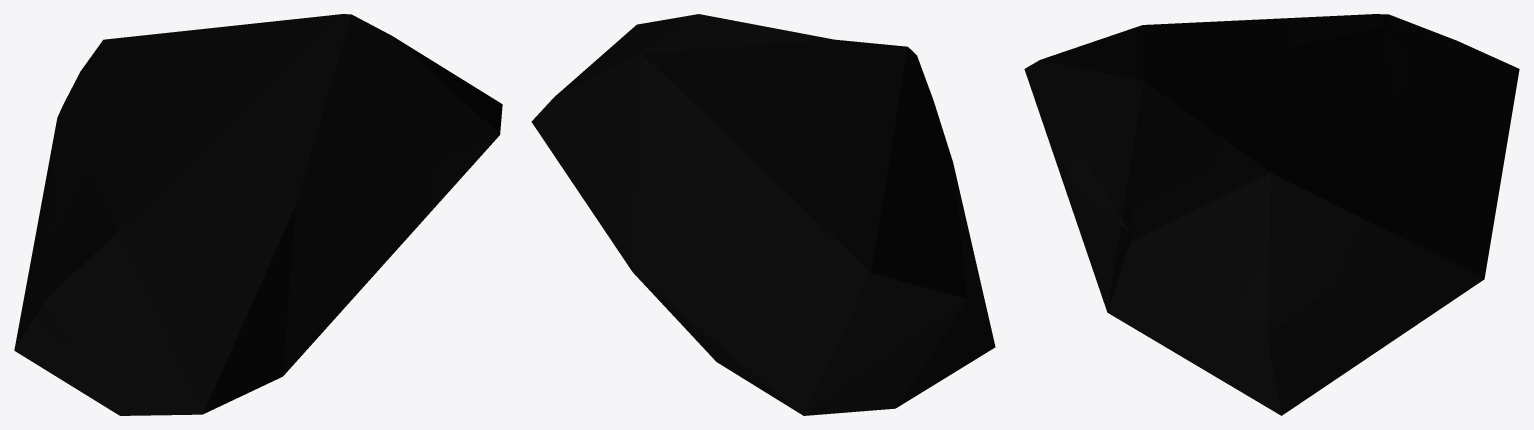
3 renders of one model, left to right at view 1: azimuth 30°, elevation 25°; view 2: azimuth 150°, elevation 25°; view 3: azimuth 270°, elevation 25°, orthographic. The views are drawn at different scales.
Size of the model in its own units: 0.0504 by 0.0336 by 0.0432.
1 material, 1 textured.
